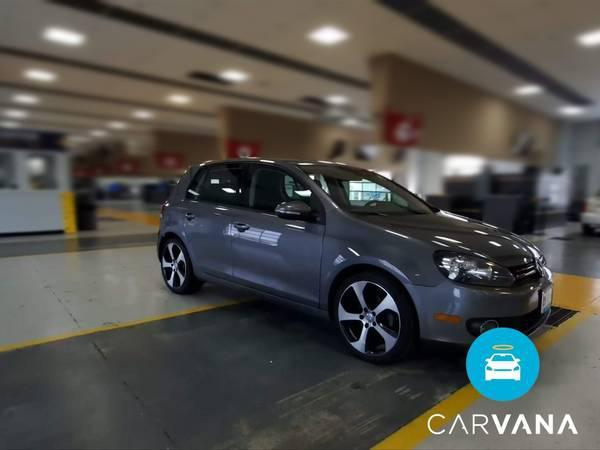Front_Bumper: (406, 269, 558, 348)
Front_Fender: (318, 207, 445, 316)
Front_Right_Door: (233, 207, 325, 312)
Front_Right_Window: (235, 164, 325, 227)
Front_Windshield: (305, 167, 443, 218)
Grille: (506, 251, 551, 285)
Hood: (352, 209, 544, 264)
Rear_Fender: (157, 198, 185, 244)
Rear_Right_Door: (181, 198, 234, 286)
Rear_Right_Window: (183, 161, 249, 206)
Right_Headlight: (434, 246, 518, 289)
Roof: (170, 158, 354, 215)
Wheel: (331, 271, 411, 362), (159, 238, 191, 290)
